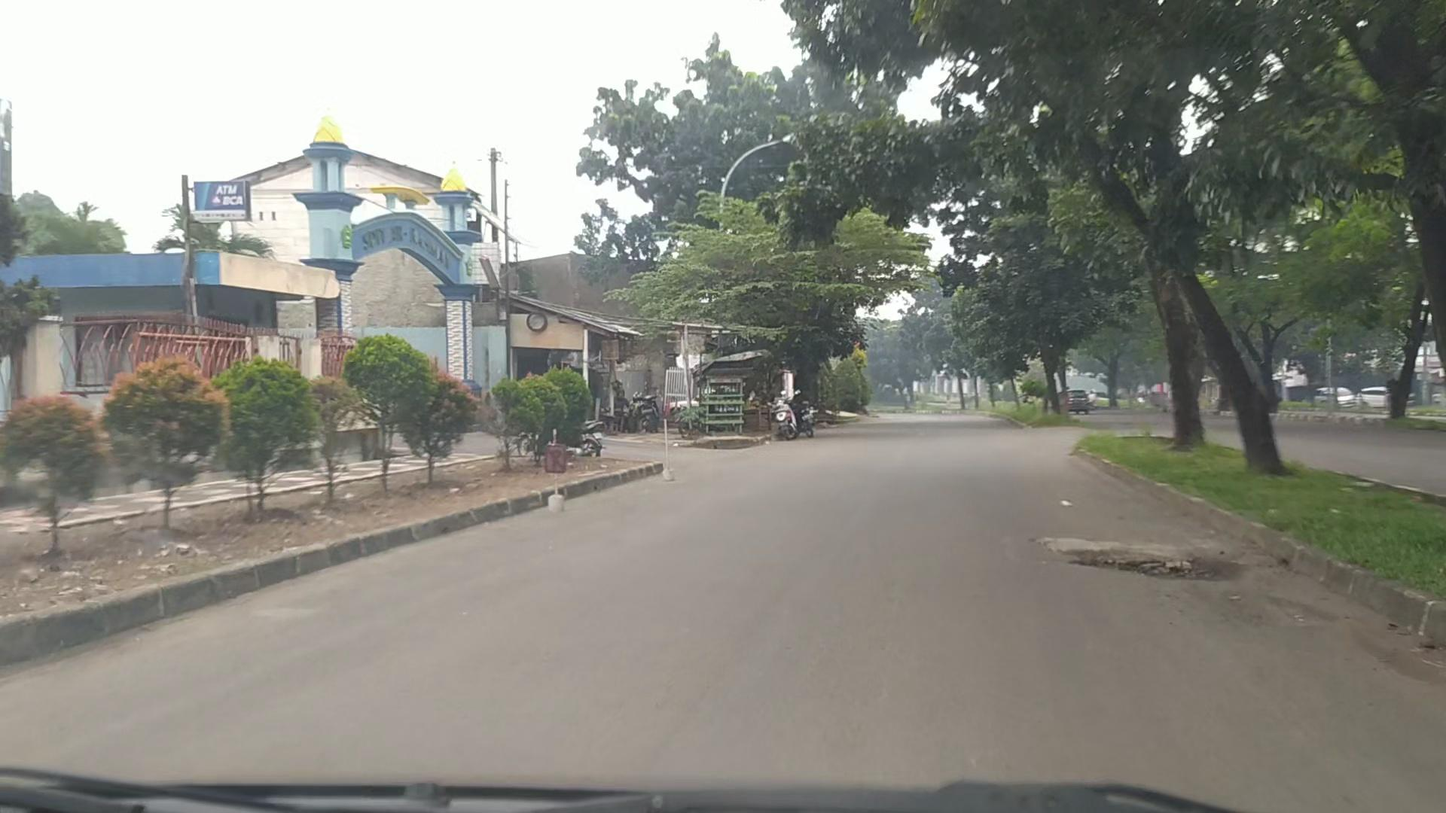pothole: (1029, 534, 1241, 586)
